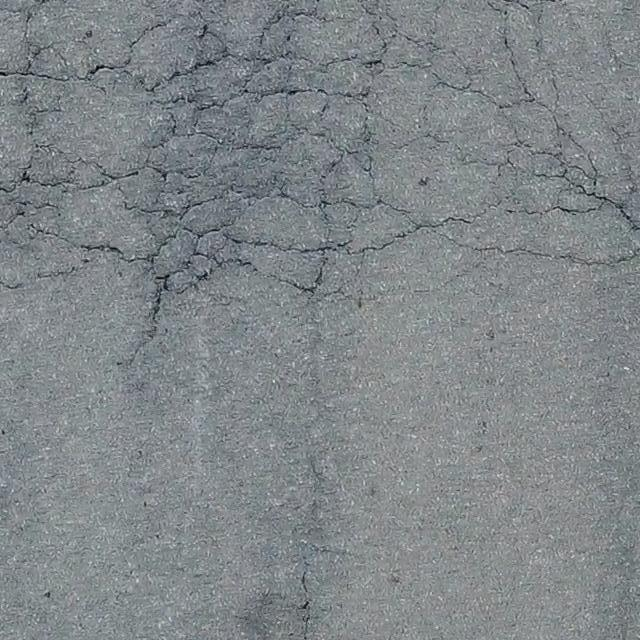GRIETA: (118, 290, 162, 366), (301, 564, 310, 639)
PIEL DE COCODRILO: (0, 0, 639, 306)
